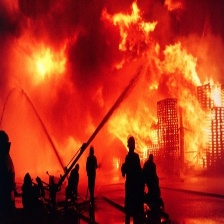fire: (112, 49, 224, 171), (106, 8, 153, 49), (27, 50, 63, 77)
smoke: (11, 1, 103, 38), (163, 3, 224, 41)
